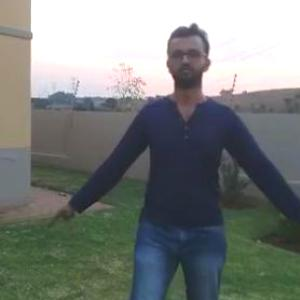land: (46, 25, 299, 299)
